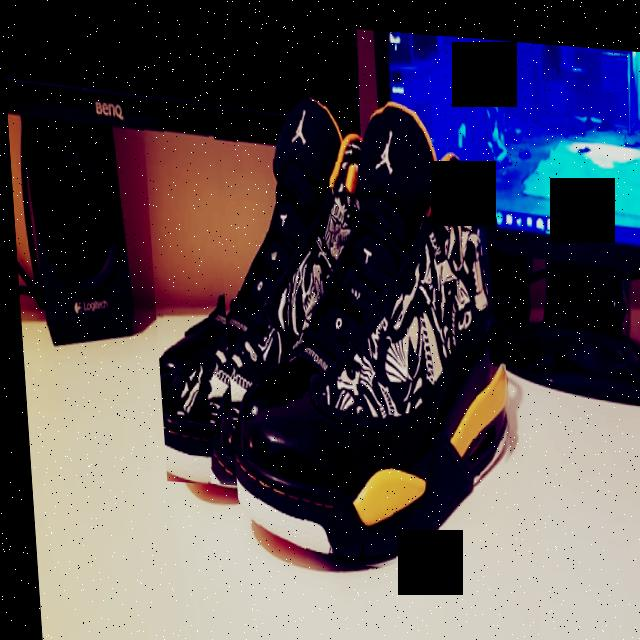shoe: (210, 83, 515, 573), (140, 80, 382, 494)
